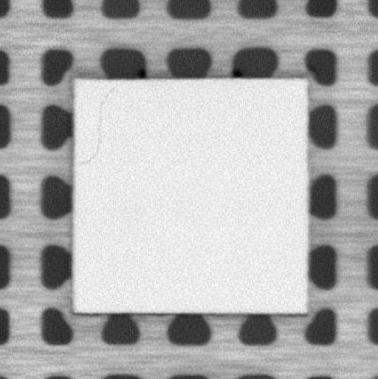DIE_CRACK: (78, 85, 114, 168)
